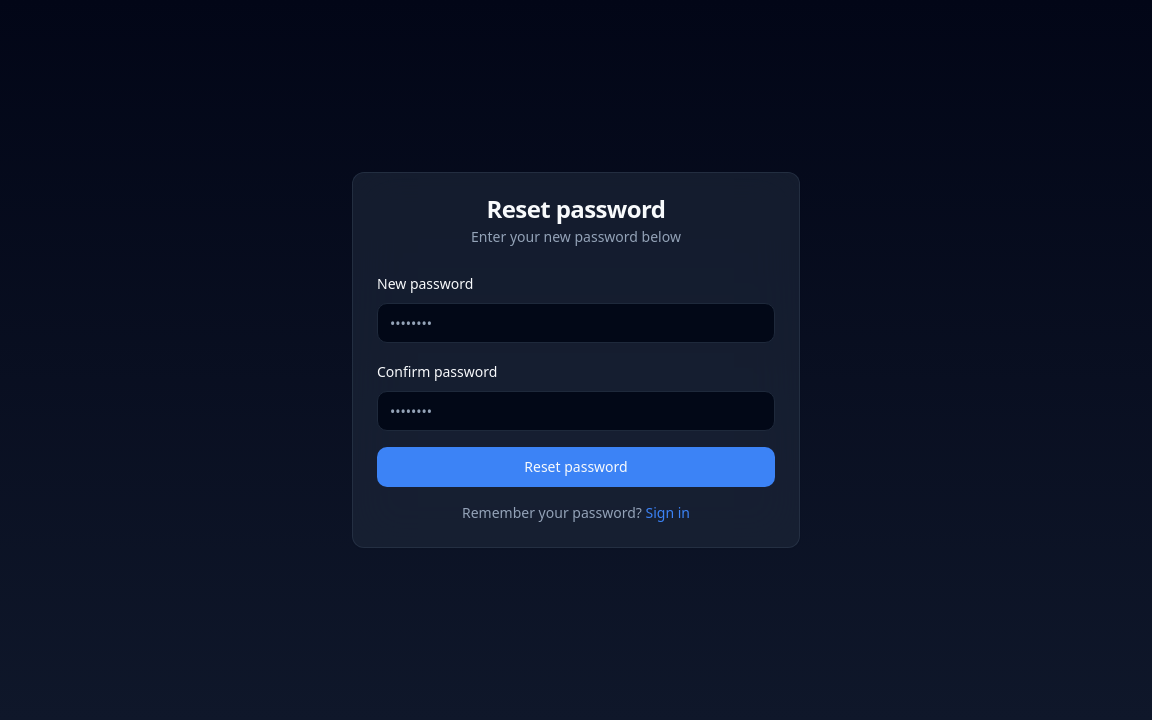
Test: ResetPasswordPage › password strength indicator › shows weak strength for short password
Type "abc" into the password field labelled "New password" at (576, 323), box x1=377 y1=303 x2=775 y2=343
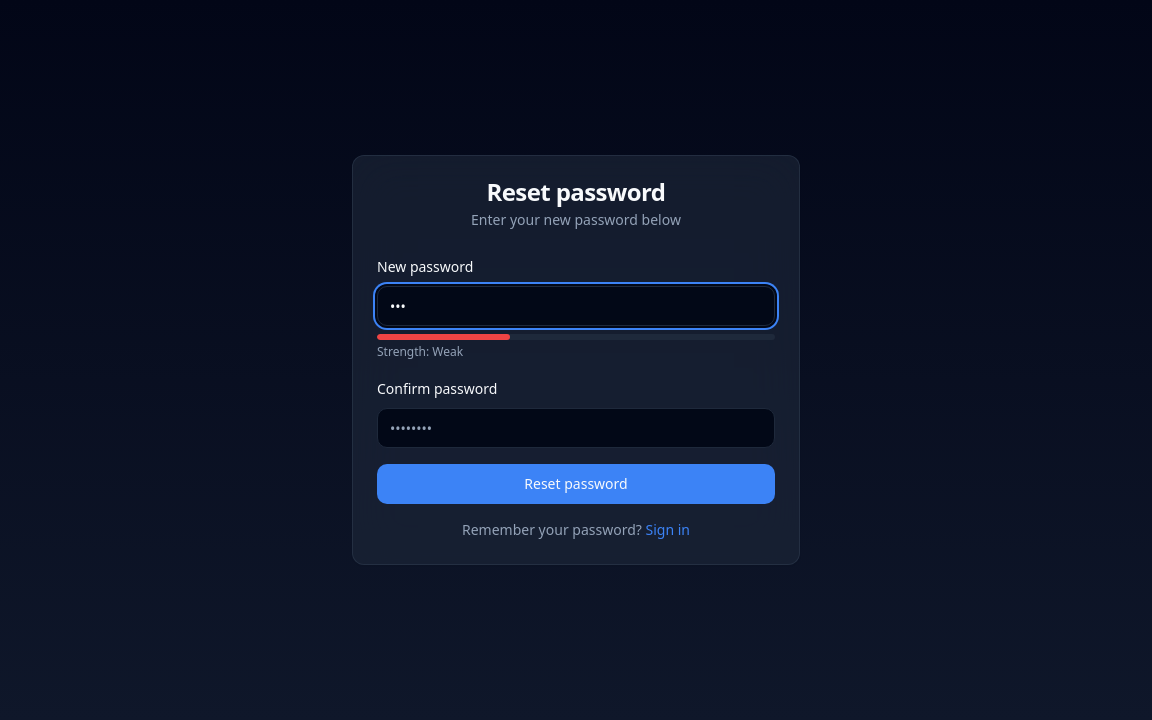
Expected: the text "Strength: Weak" is shown, x1=377 y1=343 x2=463 y2=360
